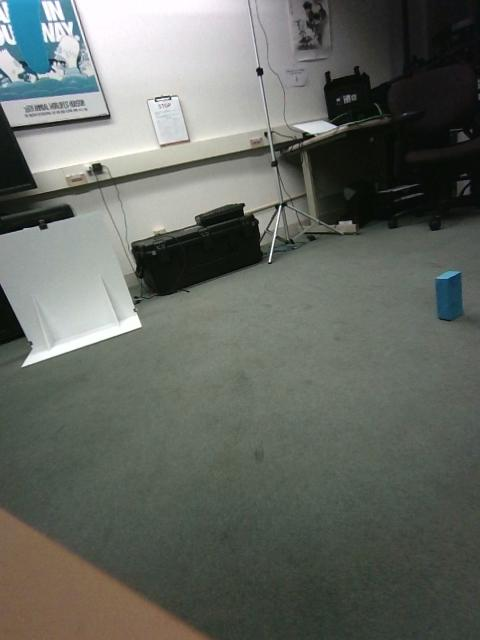block: (364, 324, 420, 412)
